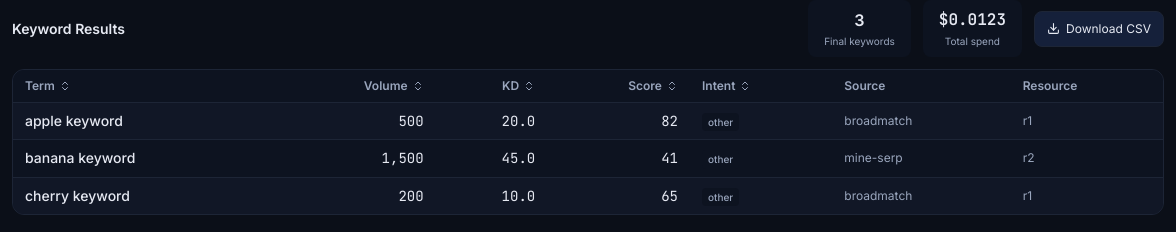
Test: Results › sorts by volume ascending when Volume header is clicked
Check: the text "apple keyword" is shown, box [13,102,273,140]
Step 1. Click the column heading "Volume" → (386, 86), box [273,70,436,102]
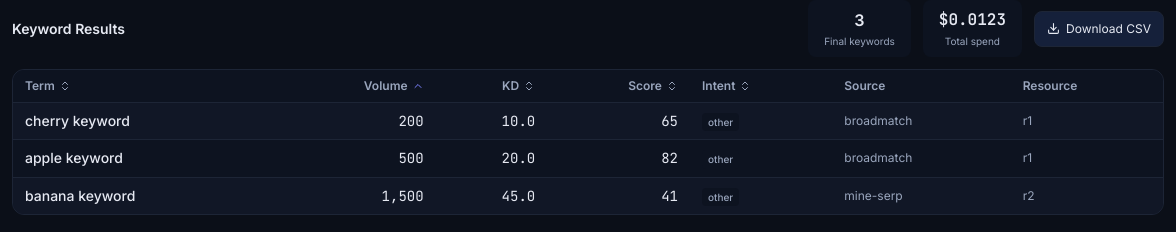
Check: the row "cherry keyword 200 10.0 65 other broadmatch r1" is shown, box [13,102,1163,140]
Check: the row "apple keyword 500 20.0 82 other broadmatch r1" is shown, box [13,140,1163,177]
Check: the row "banana keyword 1,500 45.0 41 other mine-serp r2" is shown, box [13,177,1163,214]
